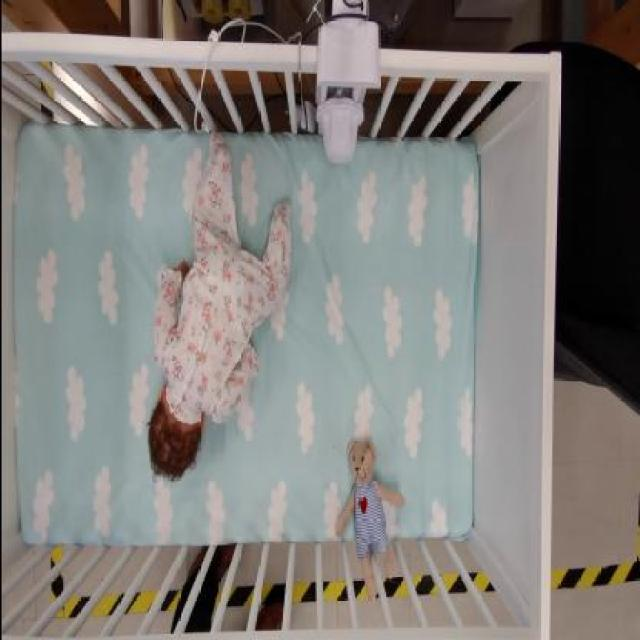baby: (148, 128, 292, 484)
